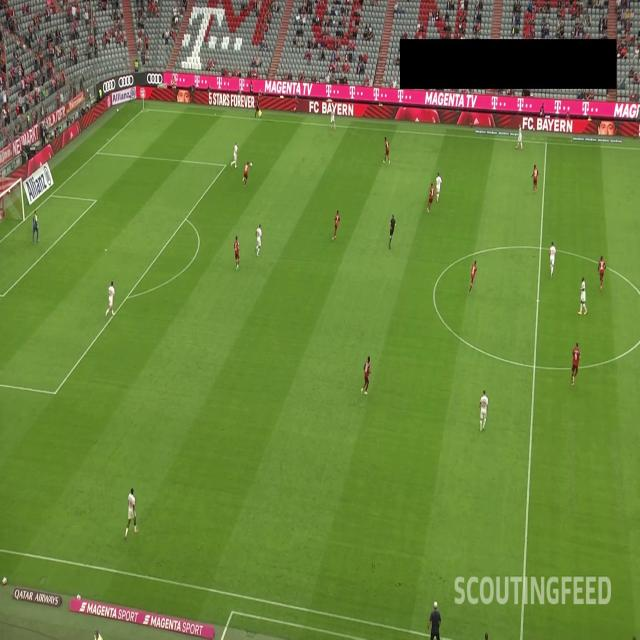ball: (250, 154, 254, 169)
player: (122, 485, 139, 538), (476, 386, 489, 433), (569, 336, 581, 386), (360, 352, 373, 398), (104, 280, 118, 318), (467, 258, 478, 298), (329, 205, 341, 241), (230, 135, 241, 172), (597, 252, 607, 292), (578, 272, 587, 316), (32, 207, 42, 246), (423, 184, 435, 216), (328, 100, 339, 132), (254, 224, 264, 258), (433, 168, 442, 204), (380, 134, 390, 166), (239, 158, 250, 186), (515, 122, 524, 153), (530, 165, 539, 196), (548, 242, 556, 276), (233, 234, 240, 268)
referee: (386, 213, 398, 256), (255, 88, 262, 119)
